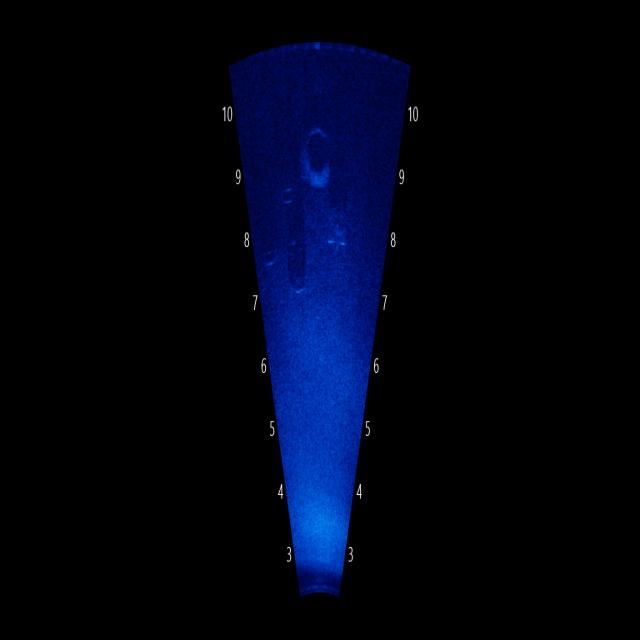circle: (297, 108, 338, 195), (280, 247, 313, 309), (258, 219, 285, 266)
